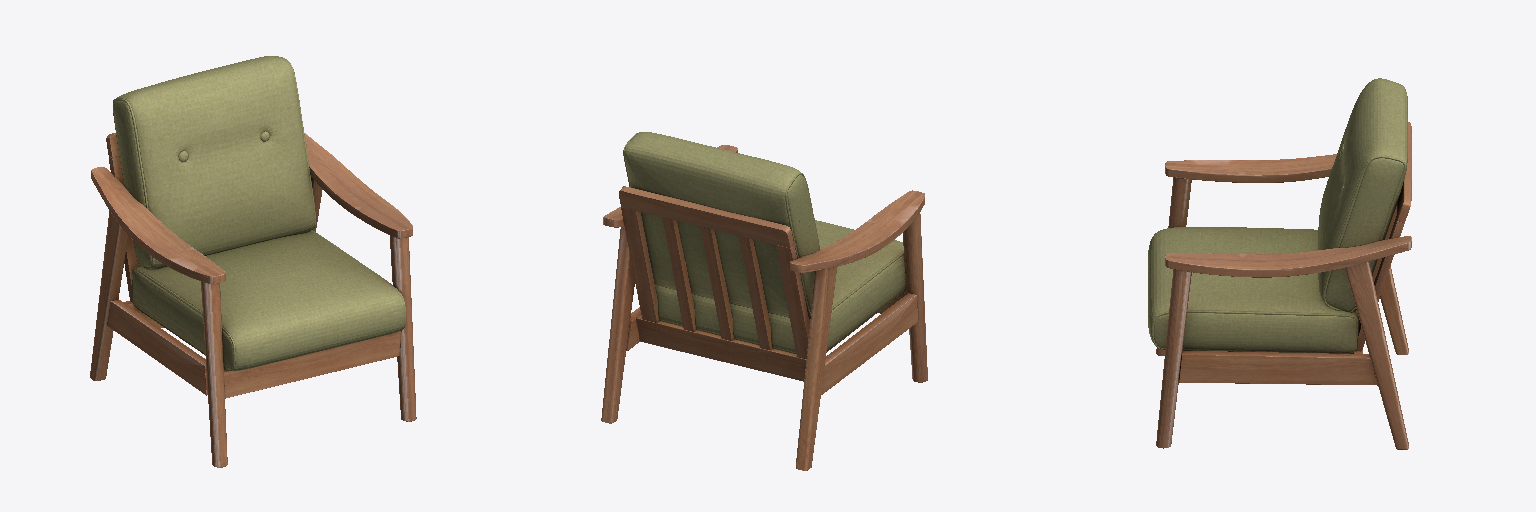
3 renders of one model, left to right at view 1: azimuth 30°, elevation 25°; view 2: azimuth 150°, elevation 25°; view 3: azimuth 270°, elevation 25°, orthographic.
Parts seen in each view (by area): view 1: solid_001, solid_002; view 2: solid_002, solid_001; view 3: solid_001, solid_002.
Boxes of the visible parts, box(x1,y1,x2,y2) form: solid_001: box(113, 56, 405, 370); solid_002: box(90, 133, 416, 467); solid_002: box(601, 145, 927, 470); solid_001: box(623, 132, 905, 353); solid_001: box(1148, 78, 1407, 353); solid_002: box(1156, 122, 1411, 449).
Size of the model in its own units: 0.7003 by 0.8507 by 0.7107.
Materials: 1 (1 with a texture image).